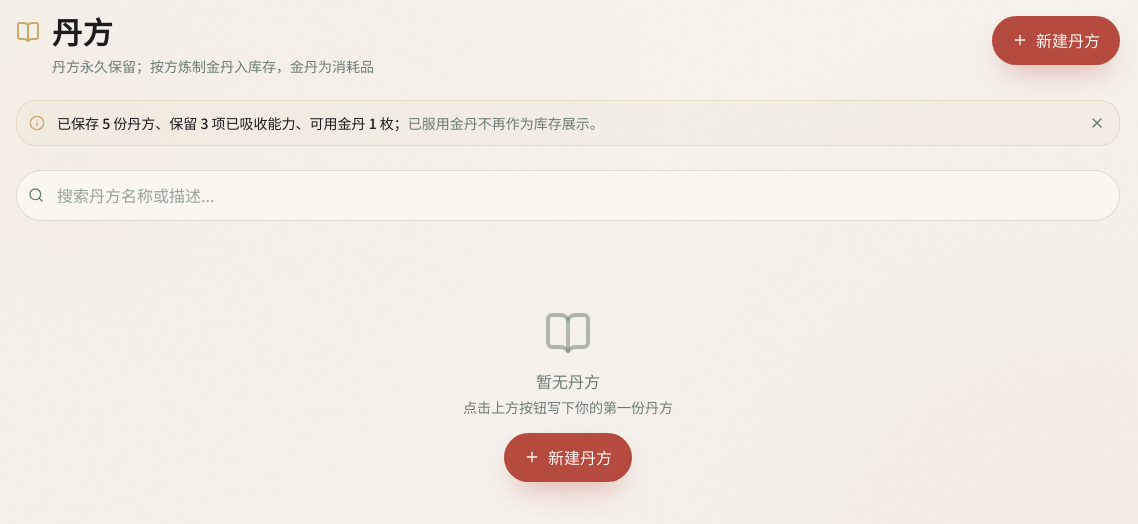
RecipesPage 迁移摘要条 › 关闭后摘要条消失并写入 localStorage；重进不再展示
Expected: the text "已保存 5 份丹方、保留 3 项已吸收能力、可用金丹 1 枚；" is shown, [57,113,408,133]
Click the button named "关闭迁移摘要" at (1097,123), box [1087,113,1107,133]
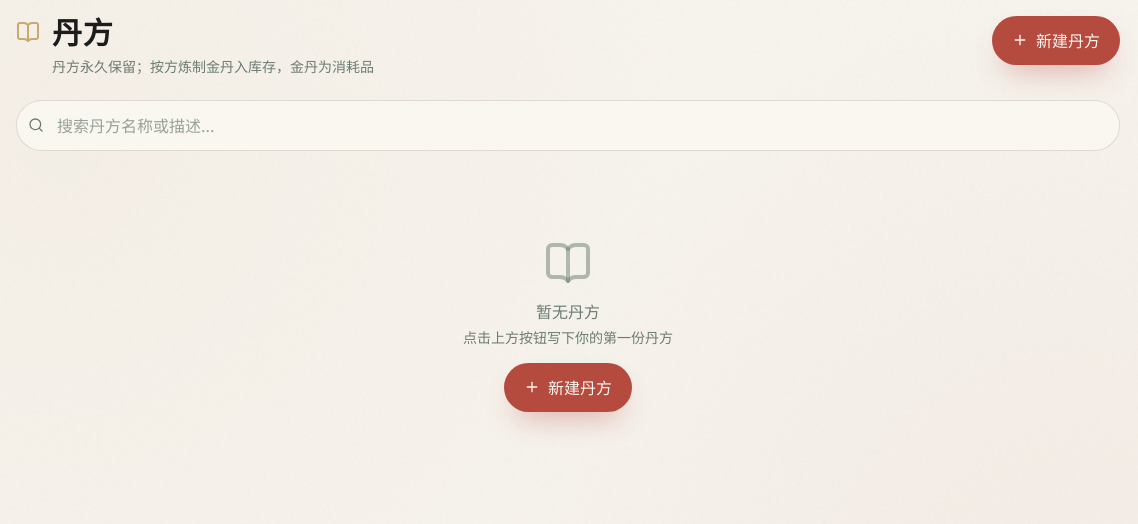
Now the text "已保存 5 份丹方" is gone
